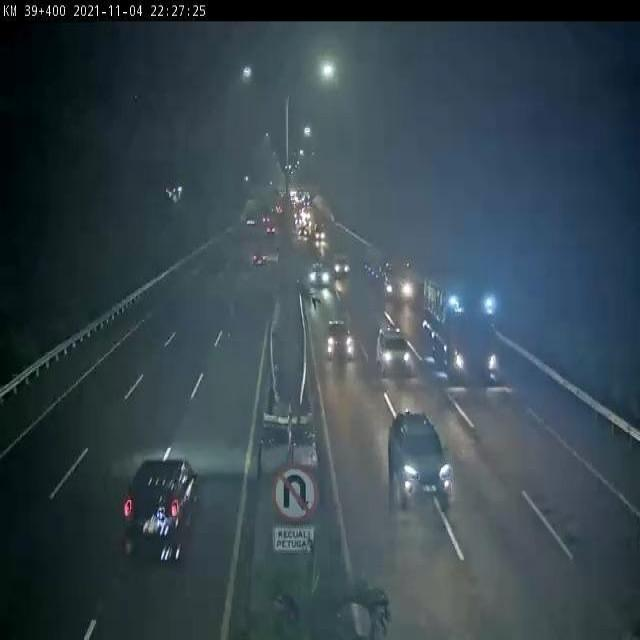car: (123, 459, 199, 561), (384, 413, 451, 507), (374, 326, 411, 371), (324, 318, 355, 358), (307, 257, 330, 284), (247, 245, 268, 268), (334, 255, 349, 276)
truck-l-: (422, 280, 499, 383)
truck-xl-: (369, 250, 415, 302)
